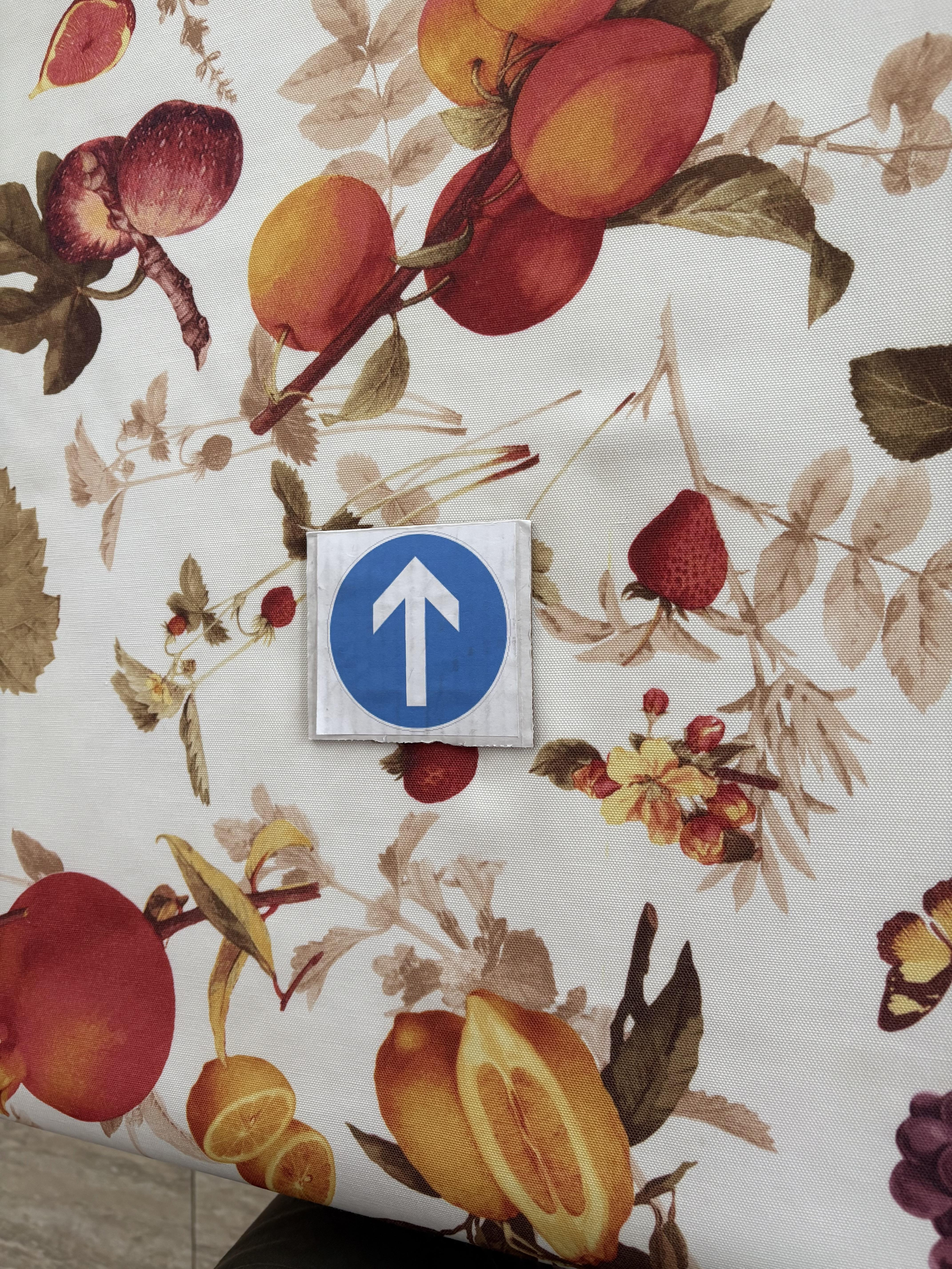Proceed Forward: (311, 535, 528, 743)
